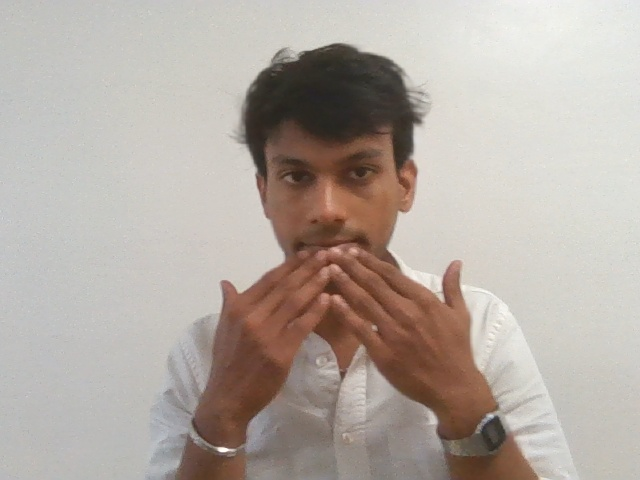ThankYou: (208, 247, 490, 448)
